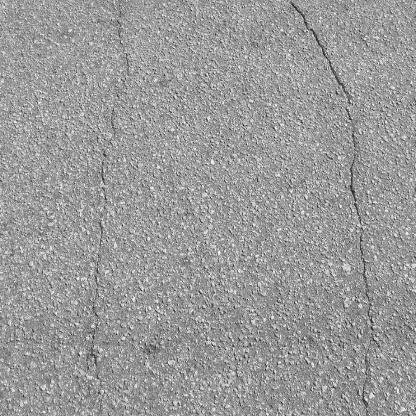Cracks: (284, 0, 379, 416), (87, 0, 134, 416)
